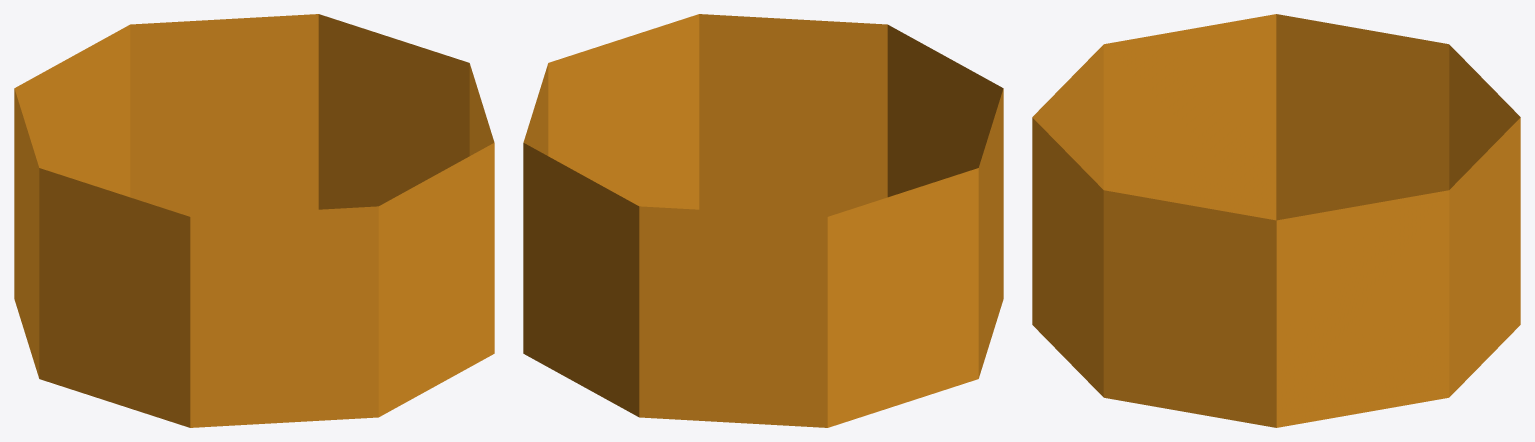
File: SM_FX_Glow_Ring_02.fbx
The picture shows the model from 3 angles, left to right: view 1: azimuth 30°, elevation 25°; view 2: azimuth 150°, elevation 25°; view 3: azimuth 270°, elevation 25°; orthographic projection.
Visible parts, largest first — view 1: SM_FX_Glow_Ring_02; view 2: SM_FX_Glow_Ring_02; view 3: SM_FX_Glow_Ring_02.
Boxes of the visible parts, x1=… form: SM_FX_Glow_Ring_02: x1=14, y1=14, x2=494, y2=427; SM_FX_Glow_Ring_02: x1=523, y1=14, x2=1003, y2=427; SM_FX_Glow_Ring_02: x1=1032, y1=14, x2=1520, y2=427.
Bounding box in the file's own units: 250 × 117 × 250.
